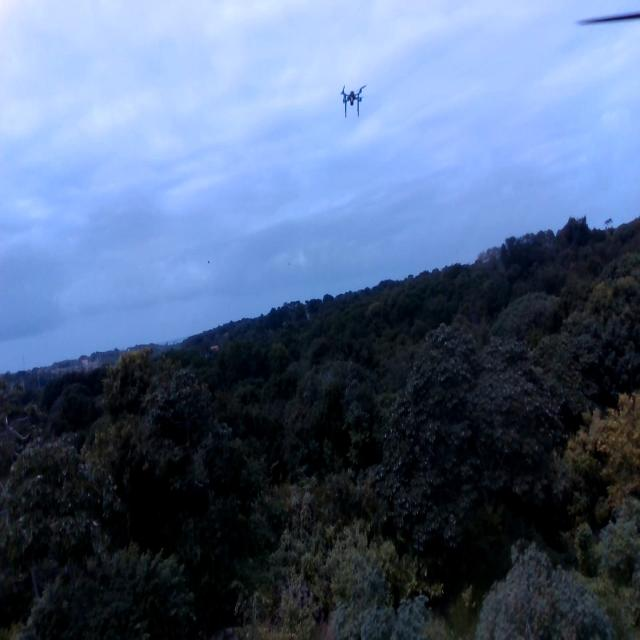-uav-: (335, 77, 375, 123)
